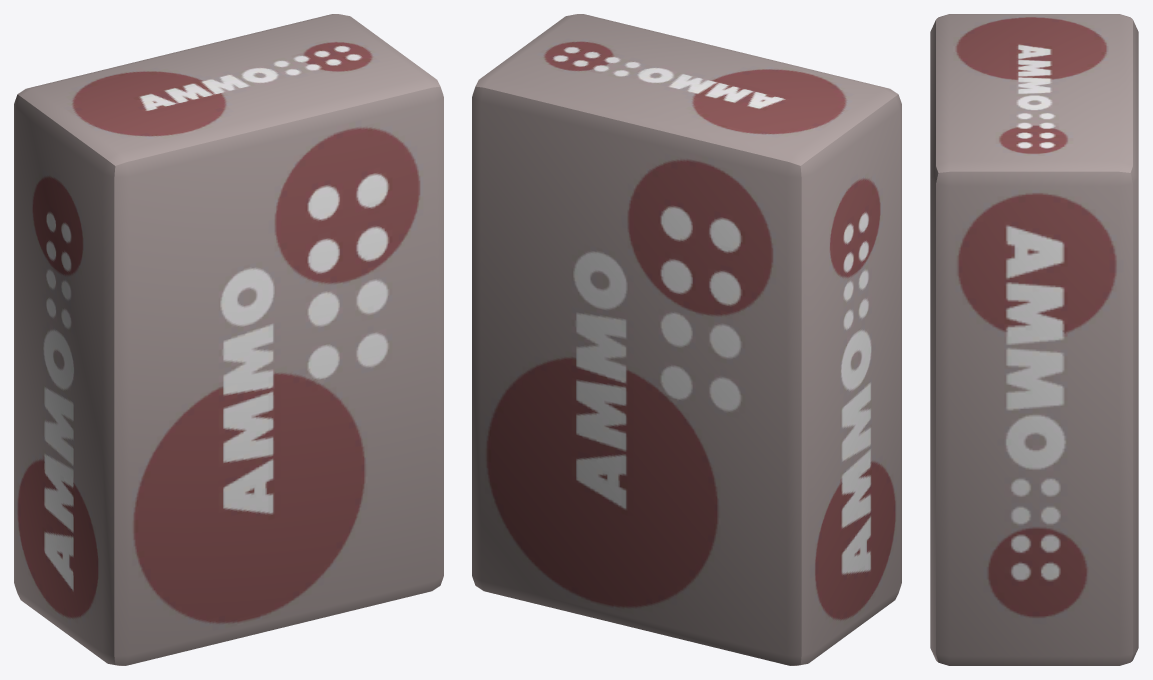
File: ammo pistol.glb
The picture shows the model from 3 angles, left to right: view 1: azimuth 30°, elevation 25°; view 2: azimuth 150°, elevation 25°; view 3: azimuth 270°, elevation 25°; orthographic projection.
Visible parts, largest first — view 1: Pistol_Ammo; view 2: Pistol_Ammo; view 3: Pistol_Ammo.
Part boxes in pixels (bbox=[...]): Pistol_Ammo: bbox=[14, 14, 443, 665]; Pistol_Ammo: bbox=[472, 14, 901, 665]; Pistol_Ammo: bbox=[930, 14, 1138, 665].
Bounding box in the file's own units: 0.2353 × 0.3405 × 0.1274.
1 material, 1 textured.
